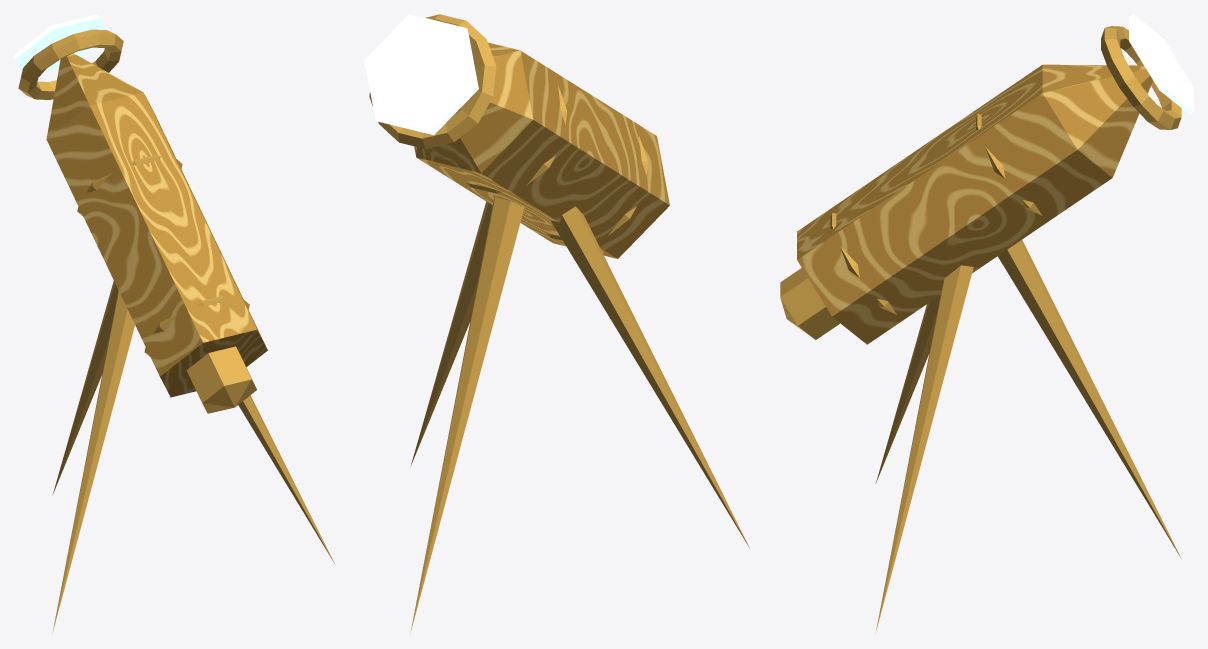
The model's file is Telescope.glb.
The picture shows the model from 3 angles, left to right: view 1: azimuth 30°, elevation 25°; view 2: azimuth 150°, elevation 25°; view 3: azimuth 270°, elevation 25°; orthographic projection. The views are drawn at different scales.
Parts seen in each view (by area): view 1: Telescope, Telescope_Glow; view 2: Telescope, Telescope_Glow; view 3: Telescope, Telescope_Glow.
Boxes of the visible parts, left/top/right/bottom form: Telescope: left=18, top=29, right=334, bottom=633; Telescope_Glow: left=14, top=14, right=106, bottom=71; Telescope: left=369, top=14, right=749, bottom=633; Telescope_Glow: left=364, top=14, right=478, bottom=135; Telescope: left=780, top=26, right=1181, bottom=632; Telescope_Glow: left=1129, top=14, right=1193, bottom=114.
Size of the model in its own units: 1.56 by 2.59 by 1.82.
Materials: 2 (1 with a texture image).
